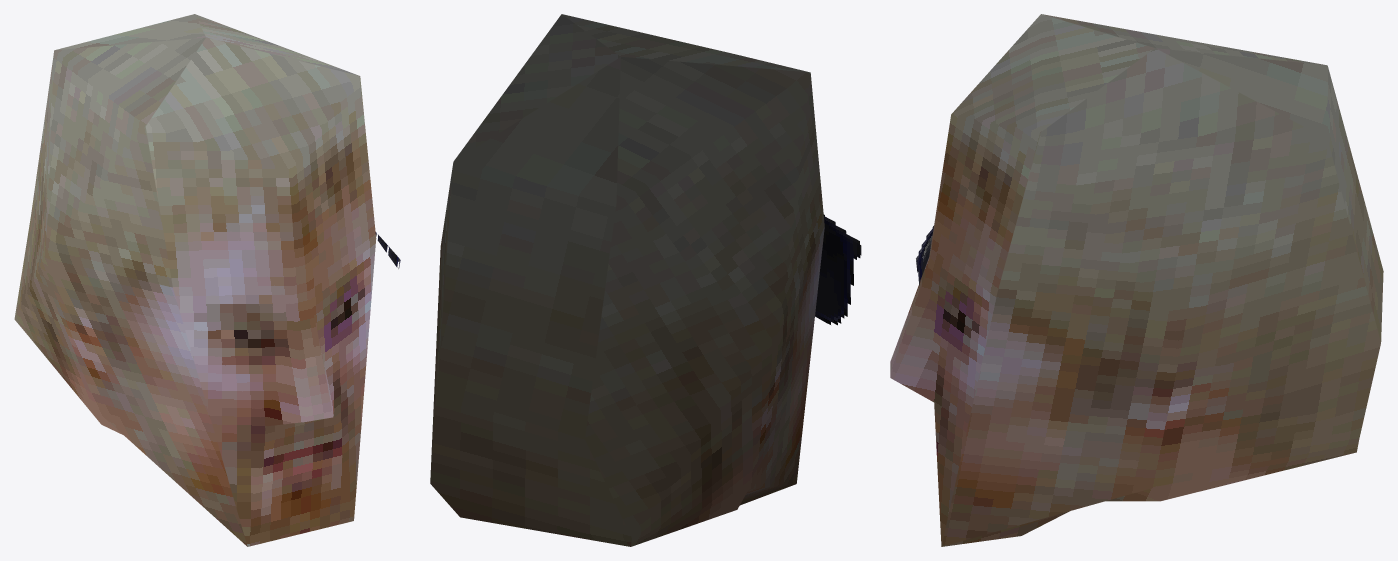
Rendered from CheadjoeZ.obj.
The picture shows the model from 3 angles, left to right: view 1: azimuth 30°, elevation 25°; view 2: azimuth 150°, elevation 25°; view 3: azimuth 270°, elevation 25°; orthographic projection. The views are drawn at different scales.
Bounding box in the file's own units: 154 × 223 × 203.
Materials: 7 (7 with a texture image).
